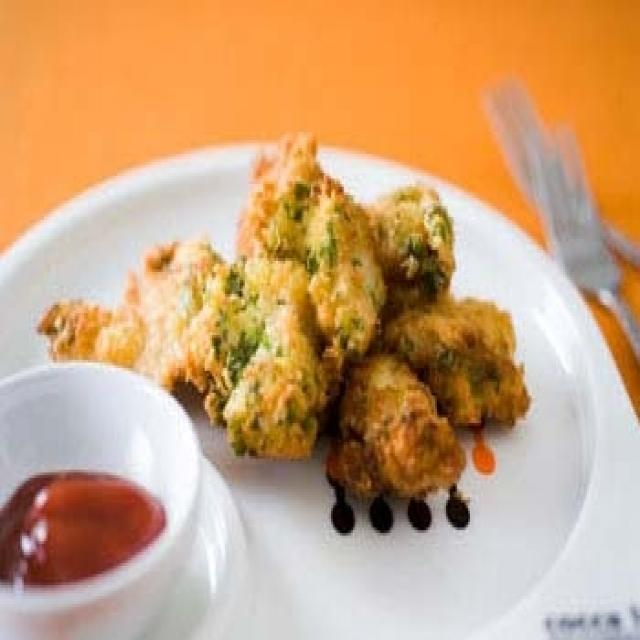Chicken nugget: (60, 173, 534, 519)
